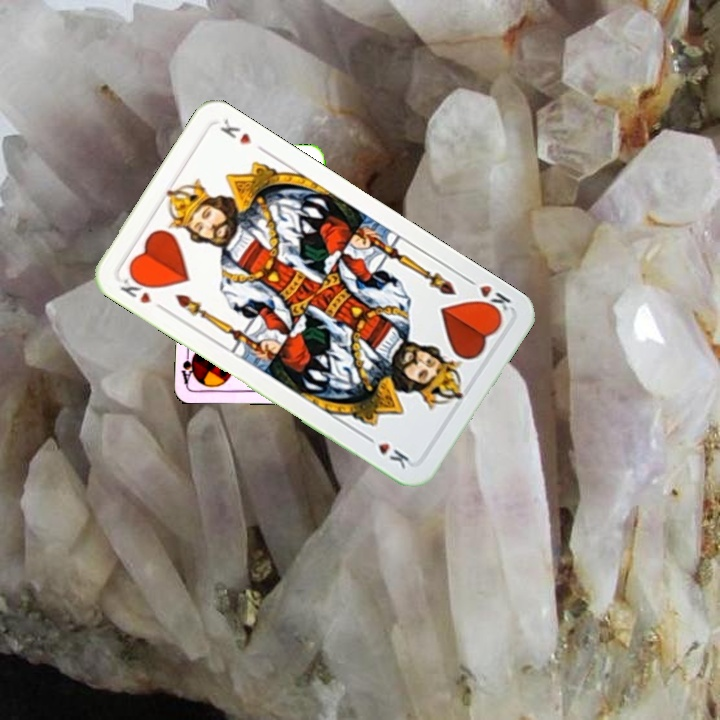HK: (461, 273, 514, 320), (116, 268, 168, 314)
